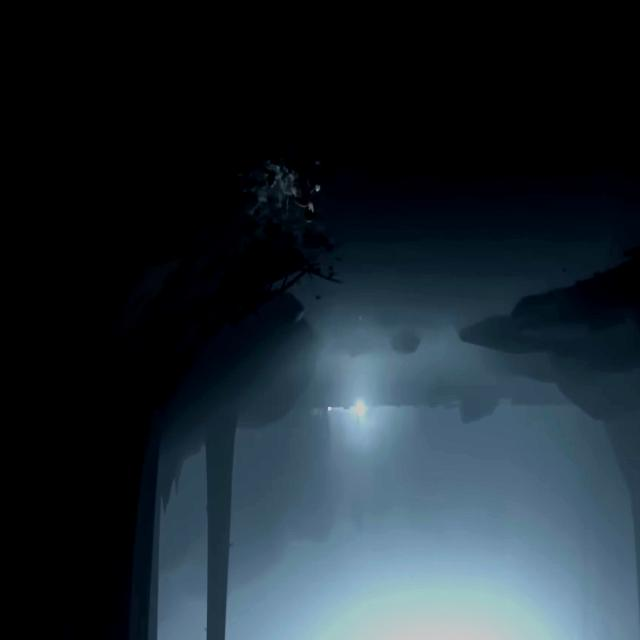boy: (294, 170, 320, 222)
